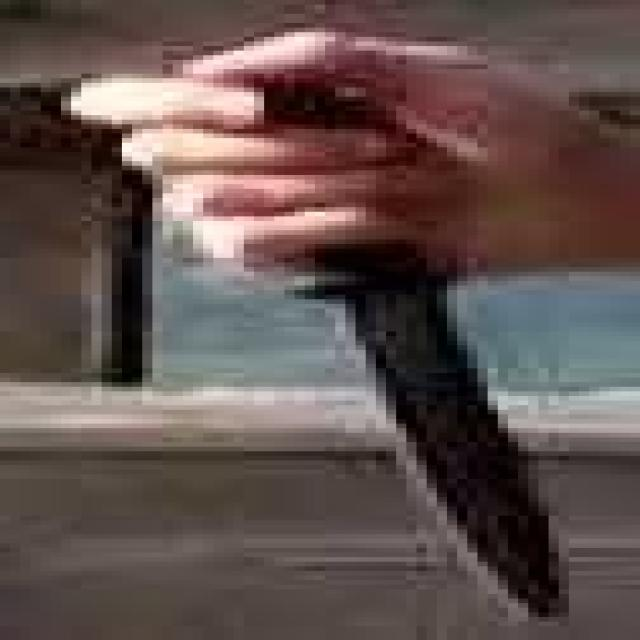Knife: (156, 28, 596, 622)
